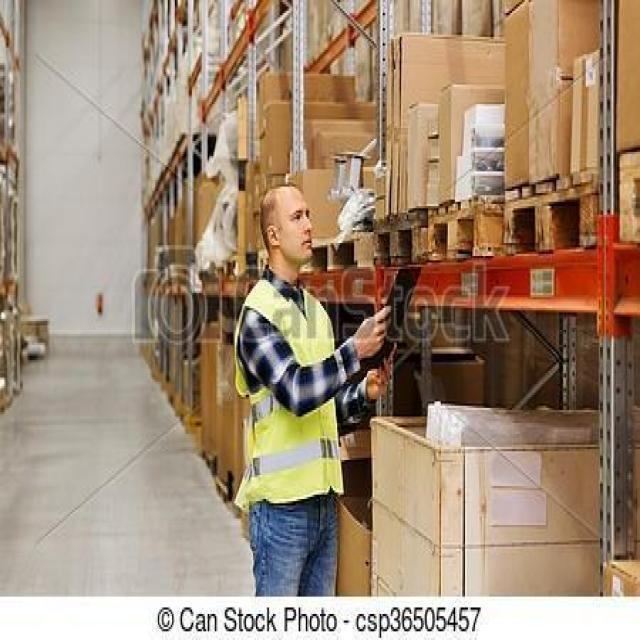no-helmet: (257, 181, 315, 235)
vest: (229, 280, 347, 508)
